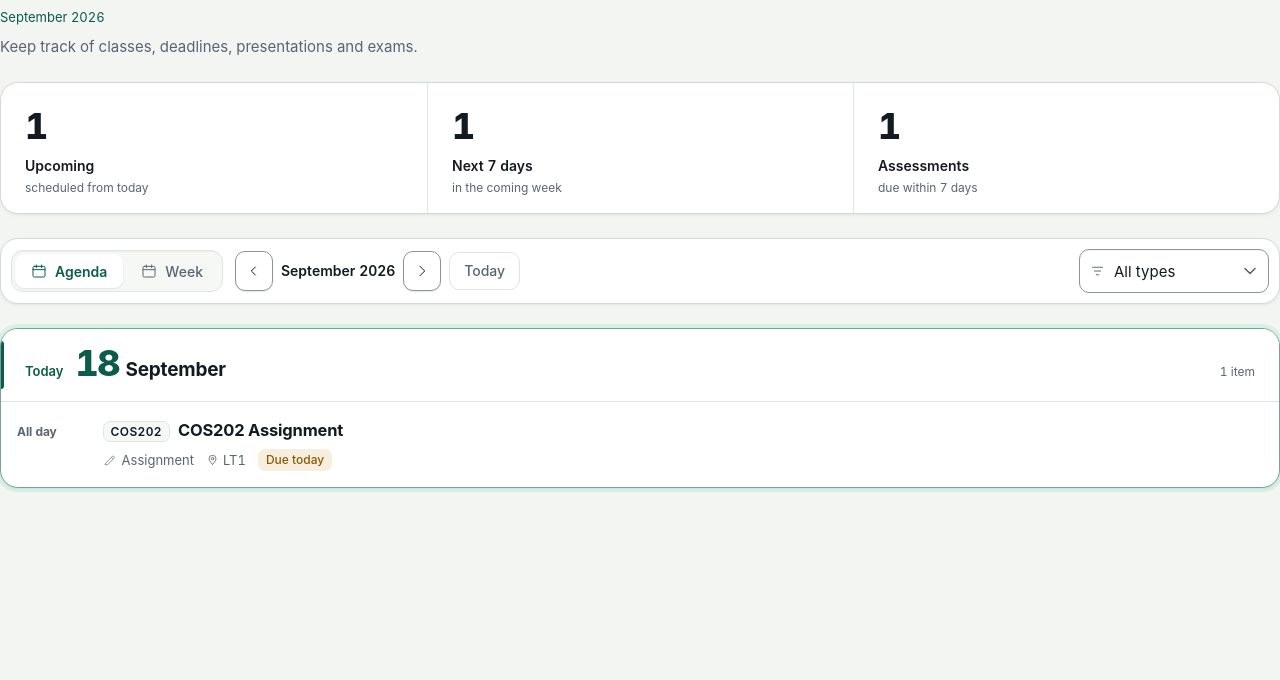
Scenario: Calendar › withdraws the week view to agenda-only, and shows classes when chosen
Click the tab "Week" at coordinates (172, 271), box [125, 254, 219, 288]
(page scrolled)
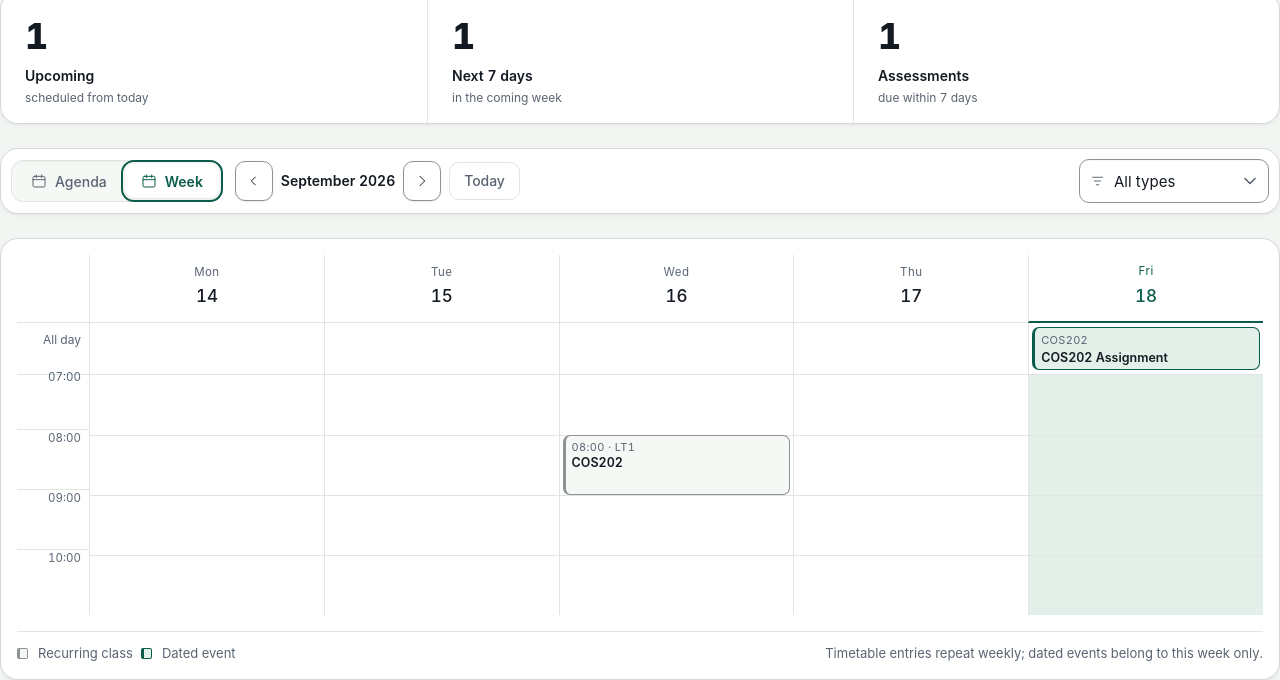
Result: the text "Wed" is shown at [664, 264, 689, 281]
Result: the text "08:00 · LT1" is shown at [572, 440, 635, 454]
Result: the text "Timetable entries repeat weekly" is shown at [825, 645, 1263, 661]
